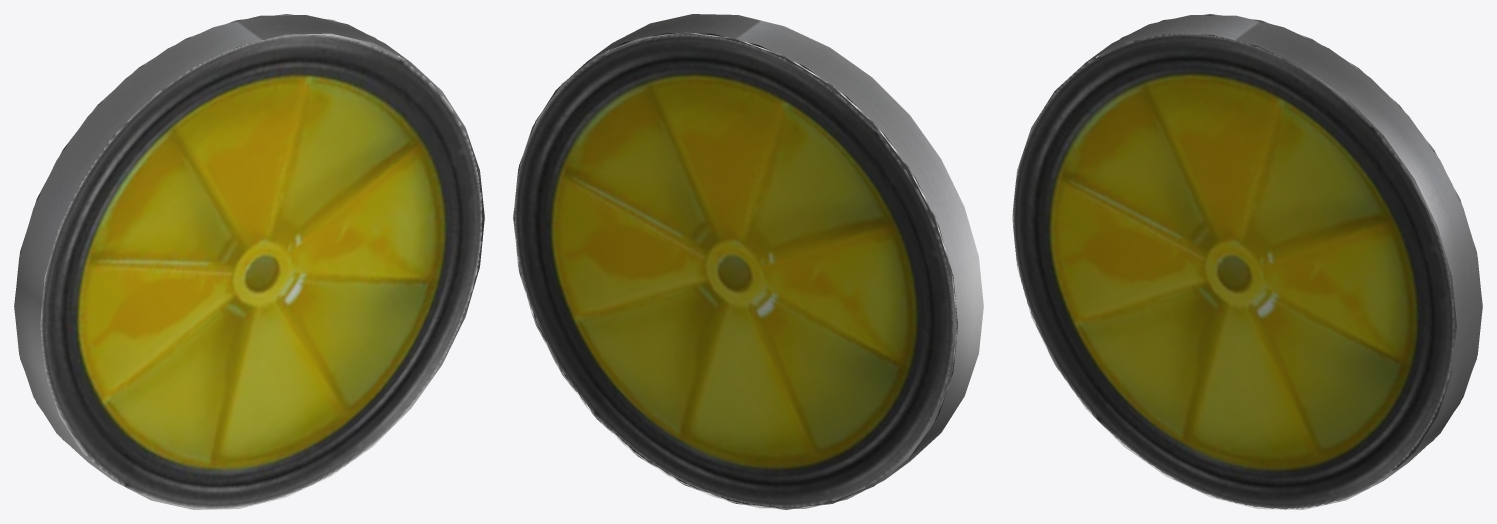
File: Rueda.obj
3 renders of one model, left to right at view 1: azimuth 30°, elevation 25°; view 2: azimuth 150°, elevation 25°; view 3: azimuth 330°, elevation 25°, orthographic.
Parts seen in each view (by area): view 1: Cylinder002, Circle001; view 2: Circle001, Cylinder002; view 3: Cylinder002, Circle001.
Boxes of the visible parts, left/top/right/bottom form: Cylinder002: left=14, top=15, right=484, bottom=509; Circle001: left=14, top=14, right=399, bottom=470; Circle001: left=513, top=32, right=957, bottom=509; Cylinder002: left=515, top=14, right=983, bottom=508; Cylinder002: left=1012, top=15, right=1482, bottom=509; Circle001: left=1097, top=14, right=1482, bottom=470.
Bounding box in the file's own units: 20 × 19.96 × 2.05.
Materials: 2 (2 with a texture image).
